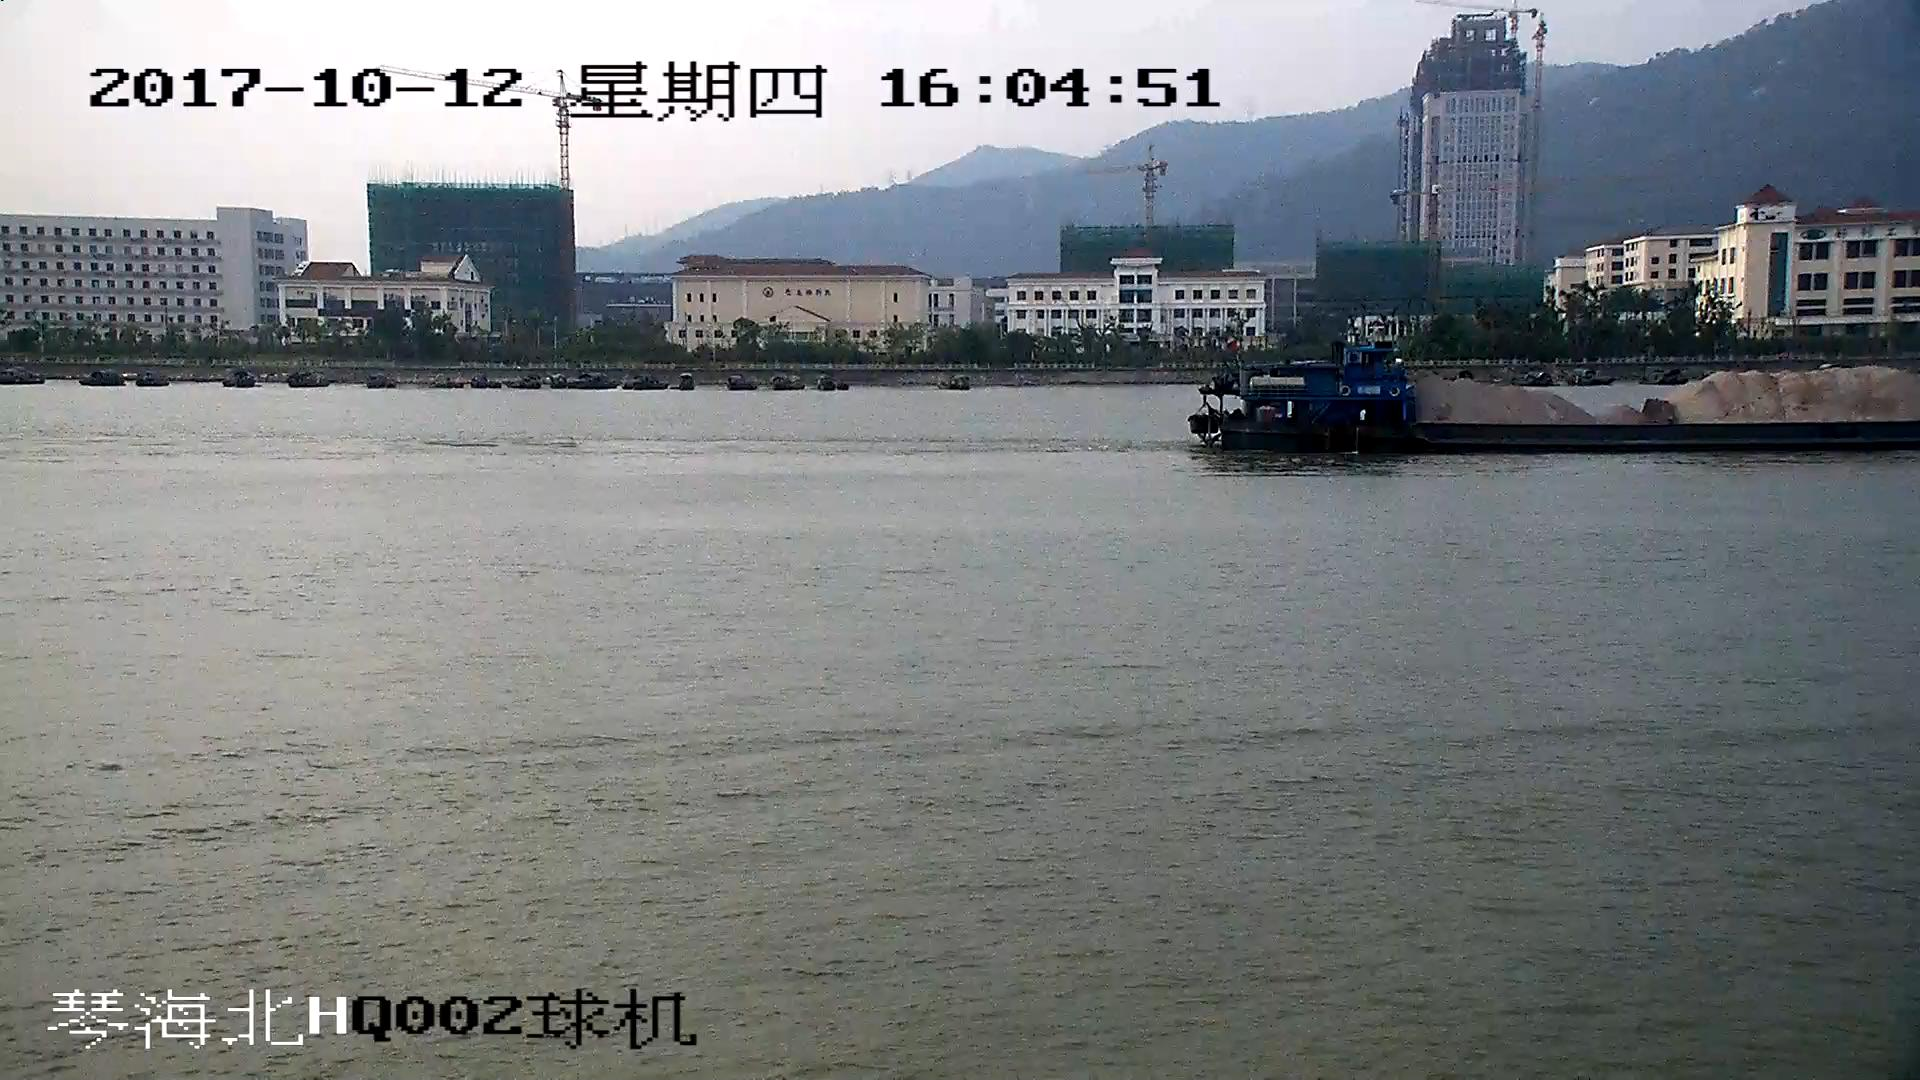ore carrier: (1193, 341, 1920, 452)
